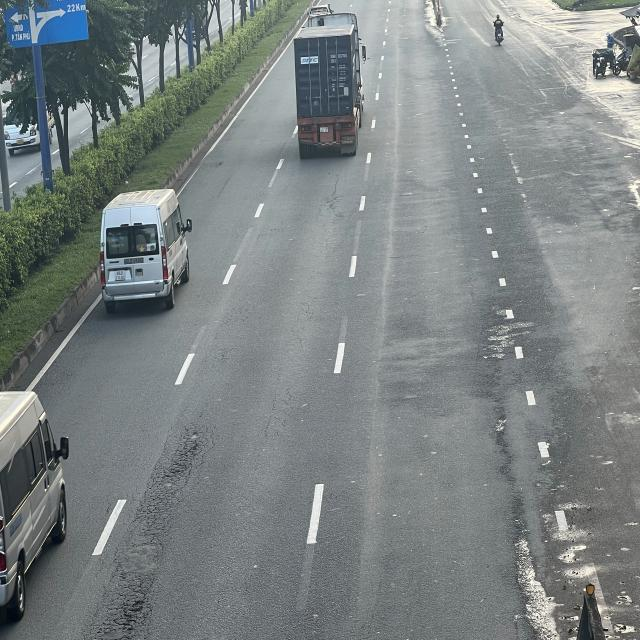container: (296, 10, 369, 154)
van: (0, 390, 72, 621), (99, 185, 192, 310)
